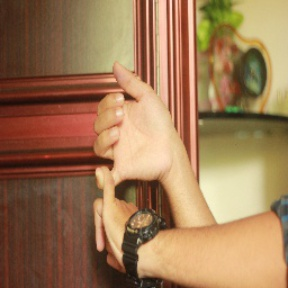S: (81, 61, 181, 271)
